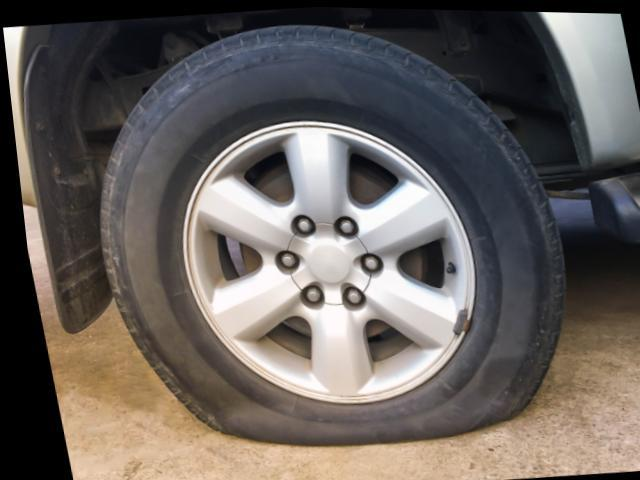tire flat: (92, 22, 563, 441)
